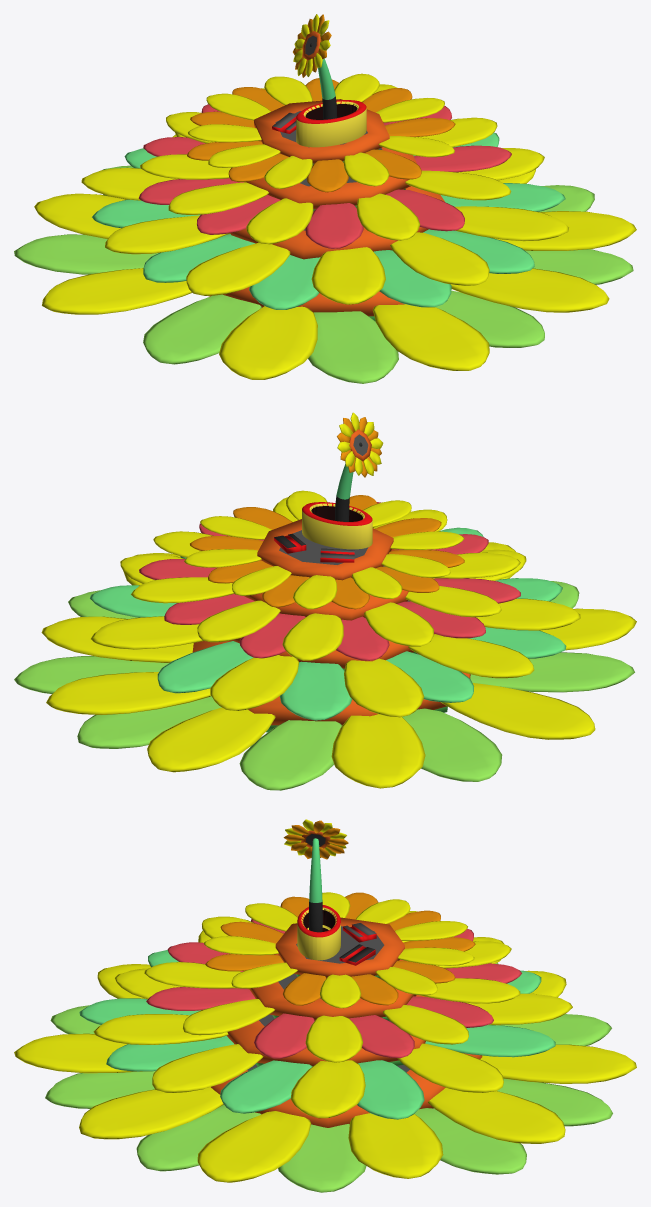
The model's file is SUNFLOWER.fbx.
3 renders of one model, top to bottom at view 1: azimuth 30°, elevation 25°; view 2: azimuth 150°, elevation 25°; view 3: azimuth 270°, elevation 25°, orthographic.
Visible parts, largest first — view 1: Plane.012, Plane.007, Plane.038, Plane.022, Plane.059, Plane.074, Plane.046, Plane.064, Plane.060, Cylinder, Plane.040, Plane.020 (+3 smaller); view 2: Plane.012, Plane.007, Plane.038, Plane.059, Plane.022, Plane.074, Plane.046, Plane.064, Plane.060, Cylinder, Plane, Plane.040 (+4 smaller); view 3: Plane.012, Plane.007, Plane.038, Plane.022, Plane.059, Plane.046, Plane.074, Plane.064, Plane.060, Plane.040, Cylinder, Plane.020 (+4 smaller).
Boxes of the visible parts, left/top/right/bottom form: Plane.012: left=34, top=134, right=636, bottom=379; Plane.007: left=14, top=165, right=633, bottom=383; Plane.038: left=81, top=132, right=568, bottom=304; Plane.022: left=92, top=132, right=565, bottom=309; Plane.059: left=140, top=84, right=511, bottom=244; Plane.074: left=188, top=73, right=454, bottom=188; Plane.046: left=138, top=104, right=511, bottom=248; Plane.064: left=187, top=78, right=455, bottom=192; Plane.060: left=254, top=99, right=389, bottom=163; Cylinder: left=296, top=100, right=366, bottom=147; Plane.040: left=244, top=140, right=416, bottom=209; Plane.020: left=228, top=186, right=444, bottom=259; Plane.012: left=41, top=542, right=636, bottom=788; Plane.007: left=14, top=581, right=634, bottom=790; Plane.038: left=91, top=549, right=580, bottom=717; Plane.059: left=131, top=497, right=520, bottom=660; Plane.022: left=90, top=527, right=566, bottom=720; Plane.074: left=184, top=490, right=464, bottom=609; Plane.046: left=139, top=502, right=520, bottom=660; Plane.064: left=190, top=495, right=464, bottom=609; Plane.060: left=257, top=519, right=393, bottom=580; Cylinder: left=302, top=502, right=372, bottom=549; Plane: left=192, top=641, right=470, bottom=725; Plane.040: left=232, top=549, right=408, bottom=620; Plane.012: left=14, top=964, right=636, bottom=1182; Plane.007: left=45, top=962, right=612, bottom=1192; Plane.038: left=93, top=930, right=572, bottom=1118; Plane.022: left=79, top=950, right=555, bottom=1119; Plane.059: left=144, top=911, right=520, bottom=1062; Plane.046: left=146, top=919, right=521, bottom=1058; Plane.074: left=204, top=892, right=474, bottom=1008; Plane.064: left=205, top=892, right=475, bottom=1005; Plane.060: left=275, top=917, right=404, bottom=978; Plane.040: left=247, top=954, right=416, bottom=1020; Cylinder: left=297, top=905, right=340, bottom=960; Plane.020: left=226, top=995, right=427, bottom=1066.
Size of the model in its own units: 395 by 187 by 405.
